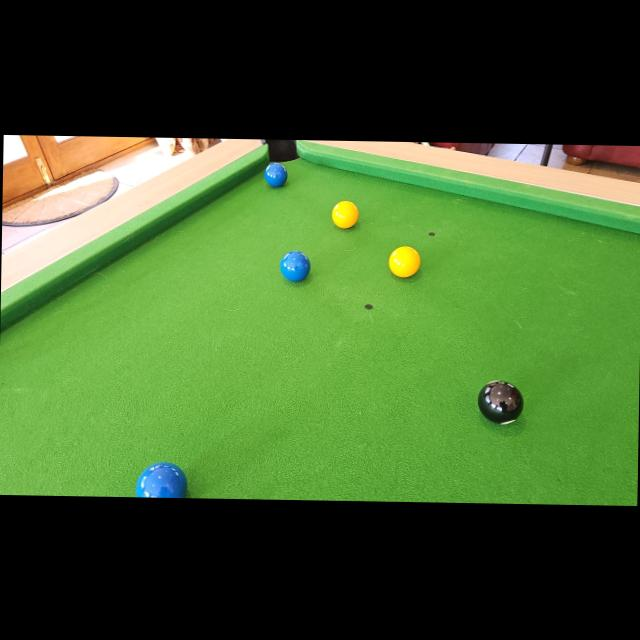Ball: (478, 378, 524, 426), (134, 461, 188, 498), (388, 245, 420, 278), (280, 250, 310, 282), (331, 200, 359, 229), (264, 162, 288, 188)
